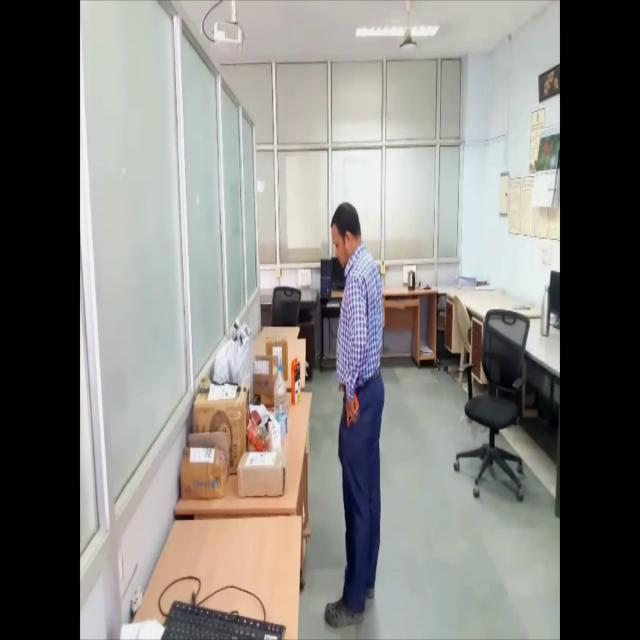shoplifting: (316, 181, 396, 640)
